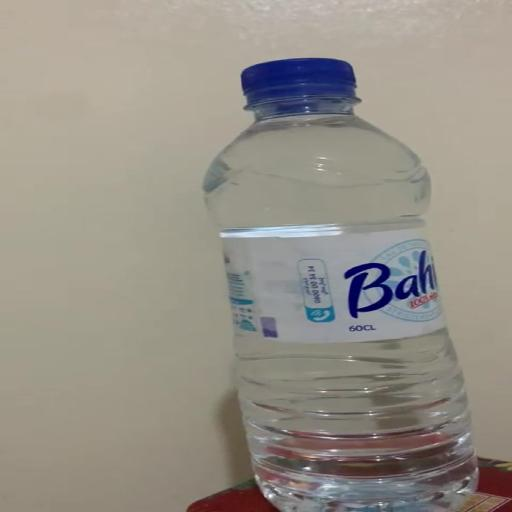bouteille conformite: (204, 57, 477, 511)
